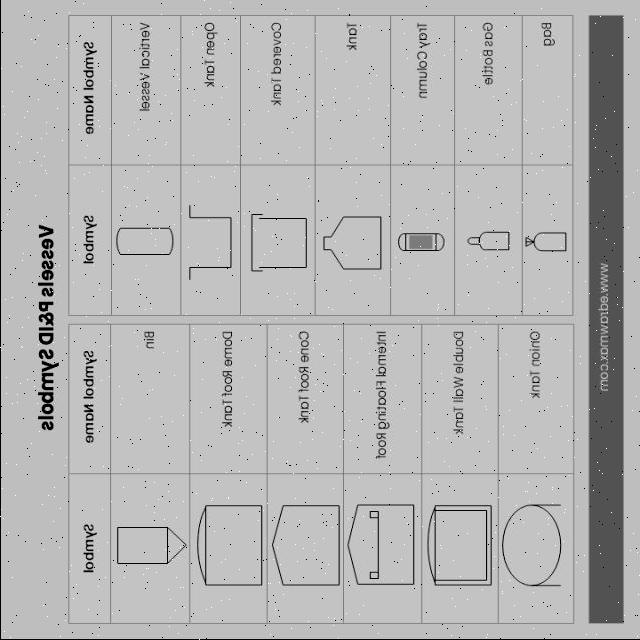Tank: (319, 197, 389, 290)
